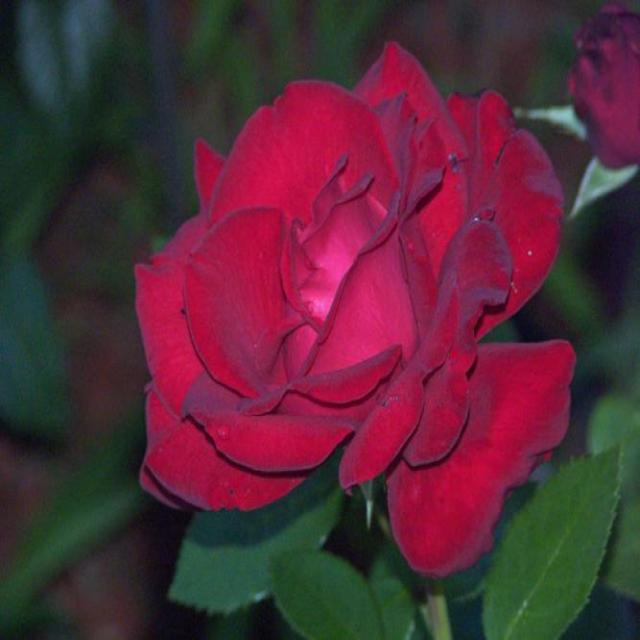rose: (119, 40, 597, 616)
